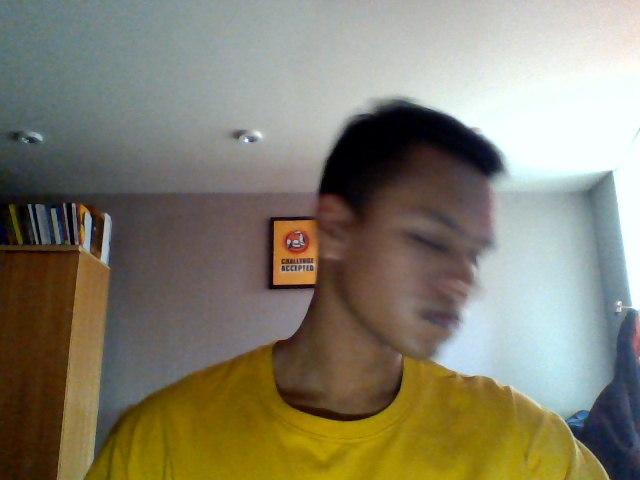no_mask: (330, 244, 478, 364)
